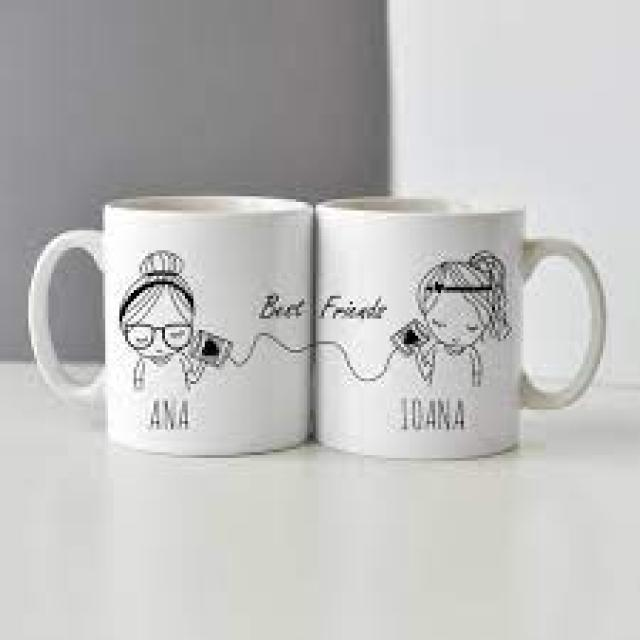taza: (316, 182, 616, 470), (16, 182, 313, 466)
